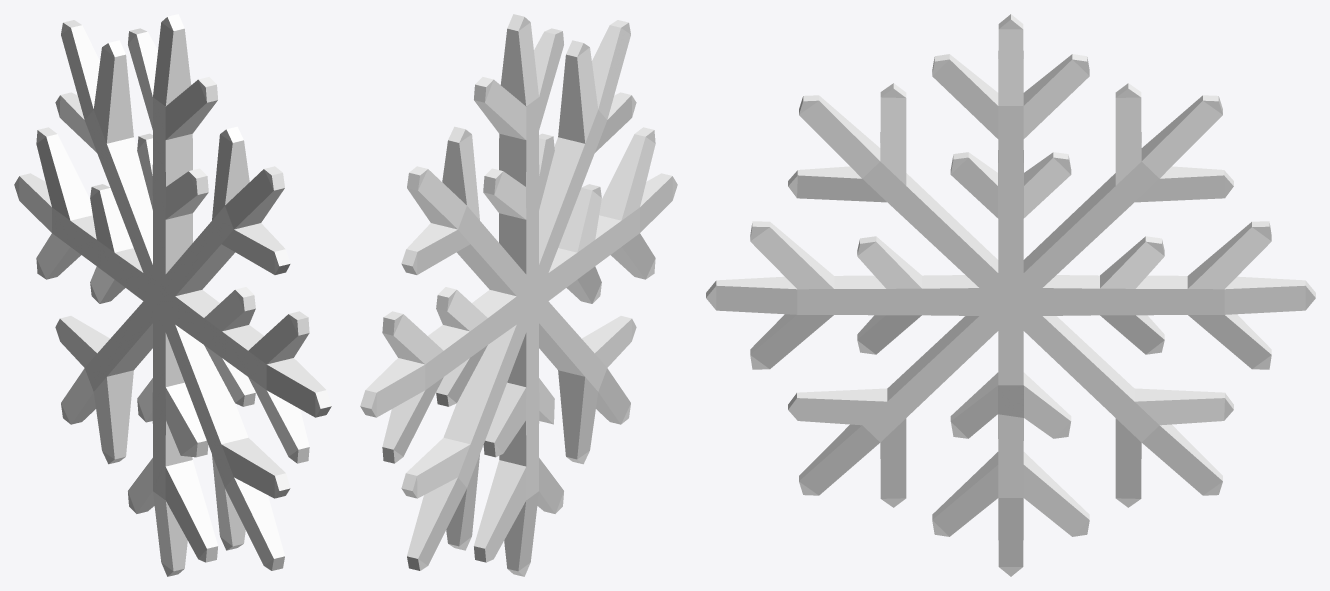
File: snowflake.fbx
3 renders of one model, left to right at view 1: azimuth 30°, elevation 25°; view 2: azimuth 150°, elevation 25°; view 3: azimuth 270°, elevation 25°, orthographic.
Parts seen in each view (by area): view 1: snowflake; view 2: snowflake; view 3: snowflake.
Boxes of the visible parts, x1=… form: snowflake: x1=14, y1=14, x2=331, y2=576; snowflake: x1=360, y1=14, x2=677, y2=576; snowflake: x1=706, y1=14, x2=1315, y2=576.
Size of the model in its own units: 4.94 by 97.33 by 96.5.
